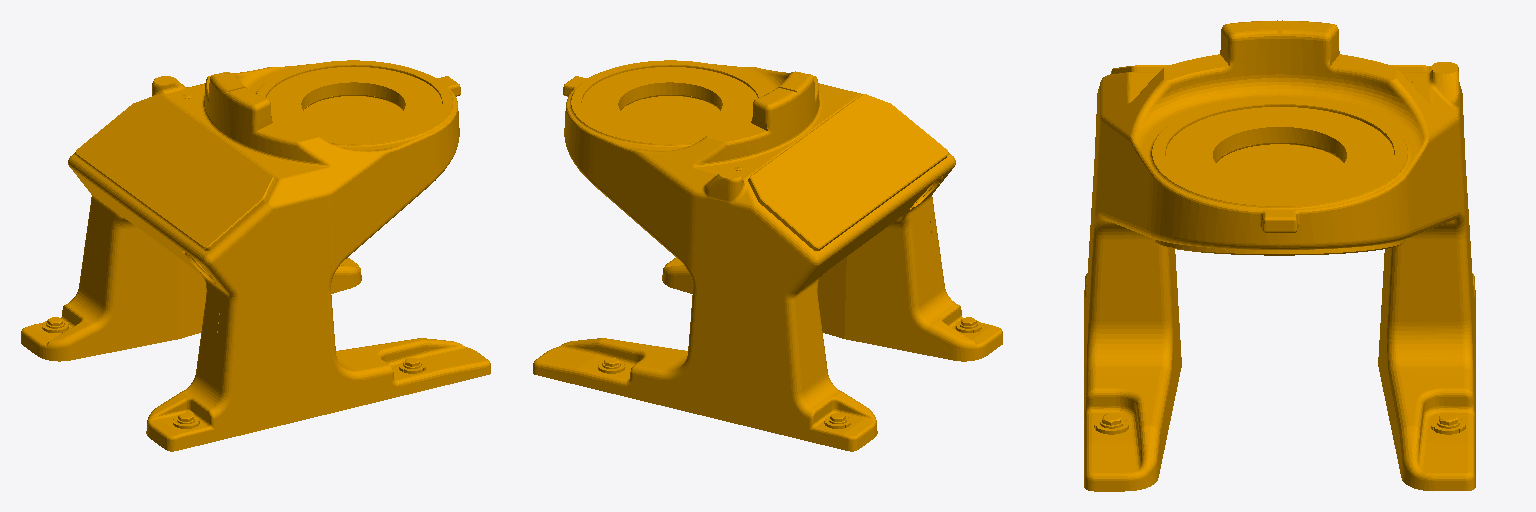
robot.urdf — IRB5500-22_rev00:
<?xml version="1.0" ?>
<robot name="IRB5500-22_rev00">

<link name="base_link">
  <inertial>
    <origin xyz="0.29563026796635283 0.24825514618313058 0.3073352992602315" rpy="0 0 0"/>
    <mass value="546.7722107426897"/>
    <inertia ixx="27.709277" iyy="24.796339" izz="29.08044" ixy="0.039619" iyz="-0.015266" ixz="-3.497012"/>
  </inertial>
  <visual>
    <origin xyz="0 0 0" rpy="0 0 0"/>
    <geometry>
      <mesh filename="package://IRB5500-22_rev00_description/meshes/base_link.stl" scale="0.001 0.001 0.001"/>
    </geometry>
    <material name="silver"/>
  </visual>
  <collision>
    <origin xyz="0 0 0" rpy="0 0 0"/>
    <geometry>
      <mesh filename="package://IRB5500-22_rev00_description/meshes/base_link.stl" scale="0.001 0.001 0.001"/>
    </geometry>
  </collision>
</link>

<link name="IRB5500-22_rev00_LINK1_CAD_1">
  <inertial>
    <origin xyz="2.644854479871839e-07 0.025223073018613457 0.34574472453644944" rpy="0 0 0"/>
    <mass value="1170.5411783269178"/>
    <inertia ixx="49.389645" iyy="64.386597" izz="51.895372" ixy="0.000256" iyz="1.243111" ixz="4.3e-05"/>
  </inertial>
  <visual>
    <origin xyz="-0.515249 -0.226004 -0.484024" rpy="0 0 0"/>
    <geometry>
      <mesh filename="package://IRB5500-22_rev00_description/meshes/IRB5500-22_rev00_LINK1_CAD_1.stl" scale="0.001 0.001 0.001"/>
    </geometry>
    <material name="silver"/>
  </visual>
  <collision>
    <origin xyz="-0.515249 -0.226004 -0.484024" rpy="0 0 0"/>
    <geometry>
      <mesh filename="package://IRB5500-22_rev00_description/meshes/IRB5500-22_rev00_LINK1_CAD_1.stl" scale="0.001 0.001 0.001"/>
    </geometry>
  </collision>
</link>

<link name="IRB5500-22_rev00_LINK2_CAD_1">
  <inertial>
    <origin xyz="1.2537374863064166e-05 -0.0647454747143845 0.6879393746685093" rpy="0 0 0"/>
    <mass value="723.6999417469983"/>
    <inertia ixx="160.035017" iyy="163.2317" izz="8.46551" ixy="-0.01496" iyz="2.579054" ixz="0.028195"/>
  </inertial>
  <visual>
    <origin xyz="-0.515249 0.005042 -0.92" rpy="0 0 0"/>
    <geometry>
      <mesh filename="package://IRB5500-22_rev00_description/meshes/IRB5500-22_rev00_LINK2_CAD_1.stl" scale="0.001 0.001 0.001"/>
    </geometry>
    <material name="silver"/>
  </visual>
  <collision>
    <origin xyz="-0.515249 0.005042 -0.92" rpy="0 0 0"/>
    <geometry>
      <mesh filename="package://IRB5500-22_rev00_description/meshes/IRB5500-22_rev00_LINK2_CAD_1.stl" scale="0.001 0.001 0.001"/>
    </geometry>
  </collision>
</link>

<link name="IRB5500-22_rev00_LINK3_CAD_1">
  <inertial>
    <origin xyz="0.39725233168241525 0.1434579842579379 -0.0005618457435807578" rpy="0 0 0"/>
    <mass value="607.3432707370075"/>
    <inertia ixx="6.245279" iyy="118.657628" izz="118.266171" ixy="-3.559113" iyz="0.043939" ixz="-0.002031"/>
  </inertial>
  <visual>
    <origin xyz="-0.515451 -0.030633 -2.220003" rpy="0 0 0"/>
    <geometry>
      <mesh filename="package://IRB5500-22_rev00_description/meshes/IRB5500-22_rev00_LINK3_CAD_1.stl" scale="0.001 0.001 0.001"/>
    </geometry>
    <material name="silver"/>
  </visual>
  <collision>
    <origin xyz="-0.515451 -0.030633 -2.220003" rpy="0 0 0"/>
    <geometry>
      <mesh filename="package://IRB5500-22_rev00_description/meshes/IRB5500-22_rev00_LINK3_CAD_1.stl" scale="0.001 0.001 0.001"/>
    </geometry>
  </collision>
</link>

<link name="IRB5500-22_rev00_LINK4_CAD_1">
  <inertial>
    <origin xyz="0.04504388184360586 0.015639941628475207 1.3726082359610814e-06" rpy="0 0 0"/>
    <mass value="13.246564877496244"/>
    <inertia ixx="0.043539" iyy="0.036823" izz="0.029169" ixy="-0.006373" iyz="1e-06" ixz="-1e-06"/>
  </inertial>
  <visual>
    <origin xyz="-1.956451 -0.247633 -2.219964" rpy="0 0 0"/>
    <geometry>
      <mesh filename="package://IRB5500-22_rev00_description/meshes/IRB5500-22_rev00_LINK4_CAD_1.stl" scale="0.001 0.001 0.001"/>
    </geometry>
    <material name="silver"/>
  </visual>
  <collision>
    <origin xyz="-1.956451 -0.247633 -2.219964" rpy="0 0 0"/>
    <geometry>
      <mesh filename="package://IRB5500-22_rev00_description/meshes/IRB5500-22_rev00_LINK4_CAD_1.stl" scale="0.001 0.001 0.001"/>
    </geometry>
  </collision>
</link>

<link name="IRB5500-22_rev00_LINK5_CAD_1">
  <inertial>
    <origin xyz="0.05993573448242451 -0.022501336628881152 -2.8488179162344807e-06" rpy="0 0 0"/>
    <mass value="22.90378370207612"/>
    <inertia ixx="0.078073" iyy="0.096705" izz="0.075709" ixy="0.0" iyz="2e-06" ixz="0.0"/>
  </inertial>
  <visual>
    <origin xyz="-2.030866 -0.244191 -2.219964" rpy="0 0 0"/>
    <geometry>
      <mesh filename="package://IRB5500-22_rev00_description/meshes/IRB5500-22_rev00_LINK5_CAD_1.stl" scale="0.001 0.001 0.001"/>
    </geometry>
    <material name="silver"/>
  </visual>
  <collision>
    <origin xyz="-2.030866 -0.244191 -2.219964" rpy="0 0 0"/>
    <geometry>
      <mesh filename="package://IRB5500-22_rev00_description/meshes/IRB5500-22_rev00_LINK5_CAD_1.stl" scale="0.001 0.001 0.001"/>
    </geometry>
  </collision>
</link>

<link name="IRB5500-22_rev00_LINK5B_CAD_1">
  <inertial>
    <origin xyz="0.027322789075515885 0.015066692567060225 1.2588592559481526e-06" rpy="0 0 0"/>
    <mass value="11.027488801145376"/>
    <inertia ixx="0.031527" iyy="0.028228" izz="0.022716" ixy="0.005894" iyz="1e-06" ixz="1e-06"/>
  </inertial>
  <visual>
    <origin xyz="-2.150738 -0.244191 -2.219964" rpy="0 0 0"/>
    <geometry>
      <mesh filename="package://IRB5500-22_rev00_description/meshes/IRB5500-22_rev00_LINK5B_CAD_1.stl" scale="0.001 0.001 0.001"/>
    </geometry>
    <material name="silver"/>
  </visual>
  <collision>
    <origin xyz="-2.150738 -0.244191 -2.219964" rpy="0 0 0"/>
    <geometry>
      <mesh filename="package://IRB5500-22_rev00_description/meshes/IRB5500-22_rev00_LINK5B_CAD_1.stl" scale="0.001 0.001 0.001"/>
    </geometry>
  </collision>
</link>

<link name="IRB5500-22_rev00_LINK6_CAD_1">
  <inertial>
    <origin xyz="-0.005525629166066803 1.09537246251179e-06 -9.113715573327852e-07" rpy="0 0 0"/>
    <mass value="0.3574993425525093"/>
    <inertia ixx="0.001069" iyy="0.000548" izz="0.000527" ixy="0.0" iyz="-5e-06" ixz="-0.0"/>
  </inertial>
  <visual>
    <origin xyz="-2.237551 -0.247633 -2.219964" rpy="0 0 0"/>
    <geometry>
      <mesh filename="package://IRB5500-22_rev00_description/meshes/IRB5500-22_rev00_LINK6_CAD_1.stl" scale="0.001 0.001 0.001"/>
    </geometry>
    <material name="silver"/>
  </visual>
  <collision>
    <origin xyz="-2.237551 -0.247633 -2.219964" rpy="0 0 0"/>
    <geometry>
      <mesh filename="package://IRB5500-22_rev00_description/meshes/IRB5500-22_rev00_LINK6_CAD_1.stl" scale="0.001 0.001 0.001"/>
    </geometry>
  </collision>
</link>

<joint name="j1" type="continuous">
  <origin xyz="0.515249 0.226004 0.484024" rpy="0 0 0"/>
  <parent link="base_link"/>
  <child link="IRB5500-22_rev00_LINK1_CAD_1"/>
  <axis xyz="-0.0 0.000105 -1.0"/>
</joint>

<joint name="j2" type="continuous">
  <origin xyz="0.0 -0.231046 0.435976" rpy="0 0 0"/>
  <parent link="IRB5500-22_rev00_LINK1_CAD_1"/>
  <child link="IRB5500-22_rev00_LINK2_CAD_1"/>
  <axis xyz="-0.0 -1.0 -0.000105"/>
</joint>

<joint name="j3" type="continuous">
  <origin xyz="0.000202 0.035675 1.300003" rpy="0 0 0"/>
  <parent link="IRB5500-22_rev00_LINK2_CAD_1"/>
  <child link="IRB5500-22_rev00_LINK3_CAD_1"/>
  <axis xyz="-0.0 1.0 0.000105"/>
</joint>

<joint name="j4" type="continuous">
  <origin xyz="1.441 0.217 -3.9e-05" rpy="0 0 0"/>
  <parent link="IRB5500-22_rev00_LINK3_CAD_1"/>
  <child link="IRB5500-22_rev00_LINK4_CAD_1"/>
  <axis xyz="1.0 -0.0 0.0"/>
</joint>

<joint name="j5" type="continuous">
  <origin xyz="0.074415 -0.003442 0.0" rpy="0 0 0"/>
  <parent link="IRB5500-22_rev00_LINK4_CAD_1"/>
  <child link="IRB5500-22_rev00_LINK5_CAD_1"/>
  <axis xyz="0.819152 -0.573576 -6e-05"/>
</joint>

<joint name="j6" type="continuous">
  <origin xyz="0.119872 0.0 0.0" rpy="0 0 0"/>
  <parent link="IRB5500-22_rev00_LINK5_CAD_1"/>
  <child link="IRB5500-22_rev00_LINK5B_CAD_1"/>
  <axis xyz="0.819152 0.573576 6e-05"/>
</joint>

<joint name="j6b" type="revolute">
  <origin xyz="0.086813 0.003442 0.0" rpy="0 0 0"/>
  <parent link="IRB5500-22_rev00_LINK5B_CAD_1"/>
  <child link="IRB5500-22_rev00_LINK6_CAD_1"/>
  <axis xyz="-1.0 0.0 -0.0"/>
  <limit upper="0.0" lower="0.0" effort="100" velocity="100"/>
</joint>

</robot>

--- Render facts (derived) ---
Views: 3 orthographic renders of the robot side by side, from view 1: azimuth 30°, elevation 25°; view 2: azimuth 150°, elevation 25°; view 3: azimuth 270°, elevation 25°.
Robot: IRB5500-22_rev00 — 8 links, 7 joints (1 revolute, 6 continuous); root link base_link; default pose: all joints at 0.
Visible links, largest first — view 1: base_link; view 2: base_link; view 3: base_link.
Link boxes in pixels (x1=…): base_link: x1=21, y1=60, x2=490, y2=451; base_link: x1=533, y1=60, x2=1002, y2=451; base_link: x1=1084, y1=20, x2=1475, y2=491.
Size in the robot's own frame: 0.7986 by 0.5808 by 0.5765 metres.
Meshes: 8 distinct files referenced, 1 mesh visuals loaded (1 binary STL); not drawn: 7 (reference not matched to a file when rendering).